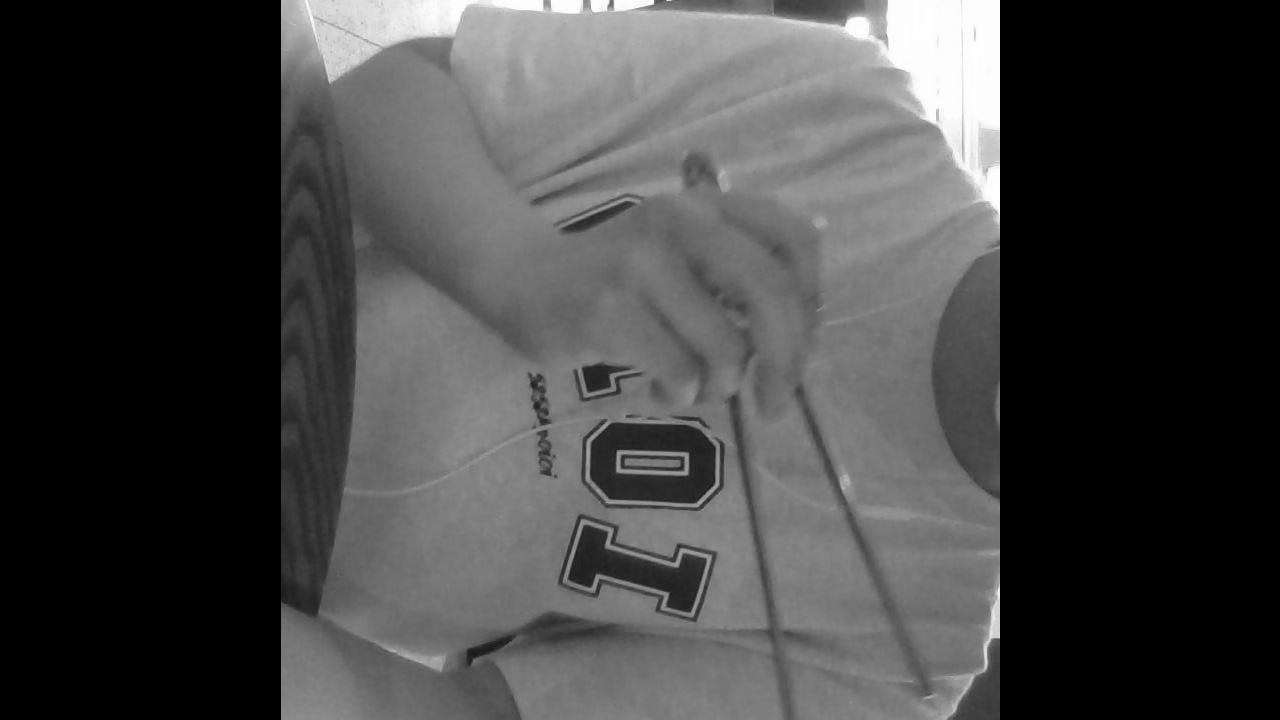chopstick: (703, 148, 935, 700), (682, 157, 798, 720)
hand: (522, 190, 818, 427)
